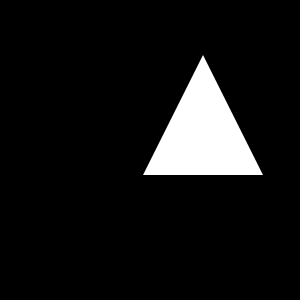circle: (182, 113, 201, 132)
triangle: (143, 55, 263, 175)
